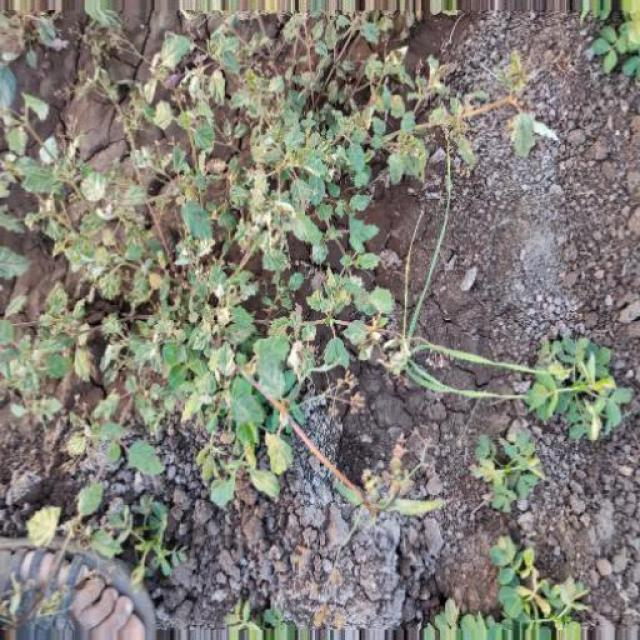weed: (2, 2, 396, 528)
